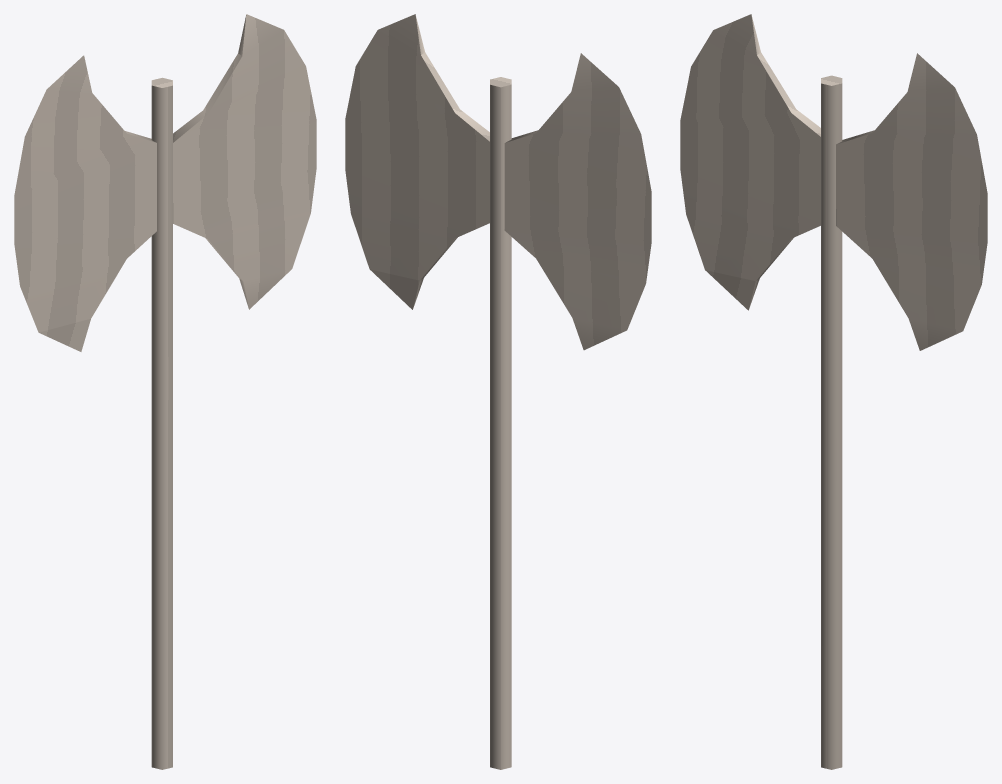
The model's file is Props_Axe.fbx.
3 renders of one model, left to right at view 1: azimuth 30°, elevation 25°; view 2: azimuth 150°, elevation 25°; view 3: azimuth 330°, elevation 25°, orthographic.
Visible parts, largest first — view 1: pCube145; view 2: pCube145; view 3: pCube145.
Part boxes in pixels (left/top/right/bottom): pCube145: left=14, top=14, right=316, bottom=769; pCube145: left=345, top=14, right=651, bottom=769; pCube145: left=680, top=14, right=987, bottom=769.
Bounding box in the file's own units: 0.5691 × 1.3 × 0.0346.
